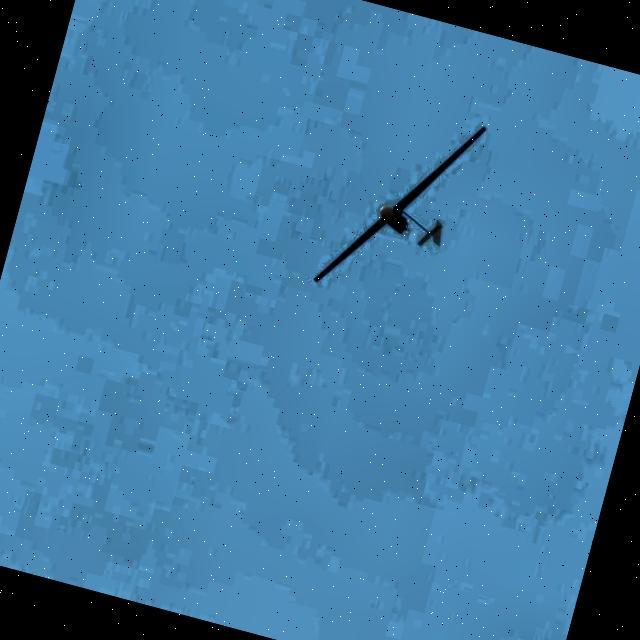iha: (304, 84, 491, 326)
